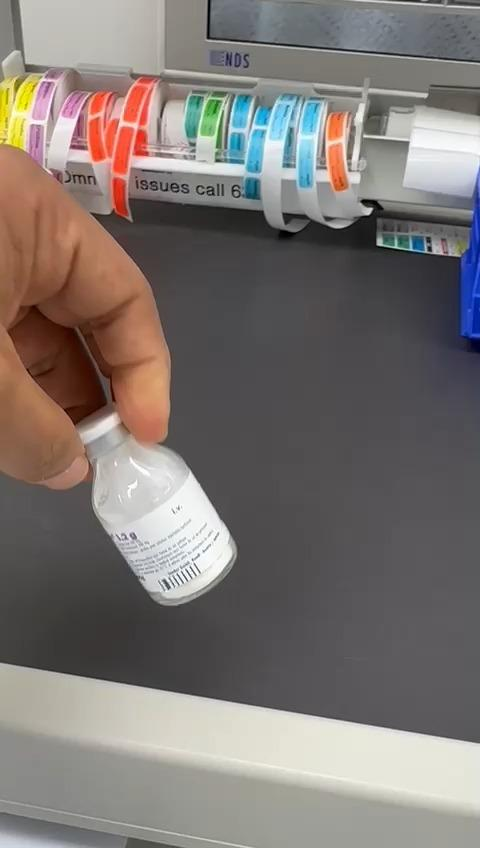augmentin: (76, 404, 237, 605)
